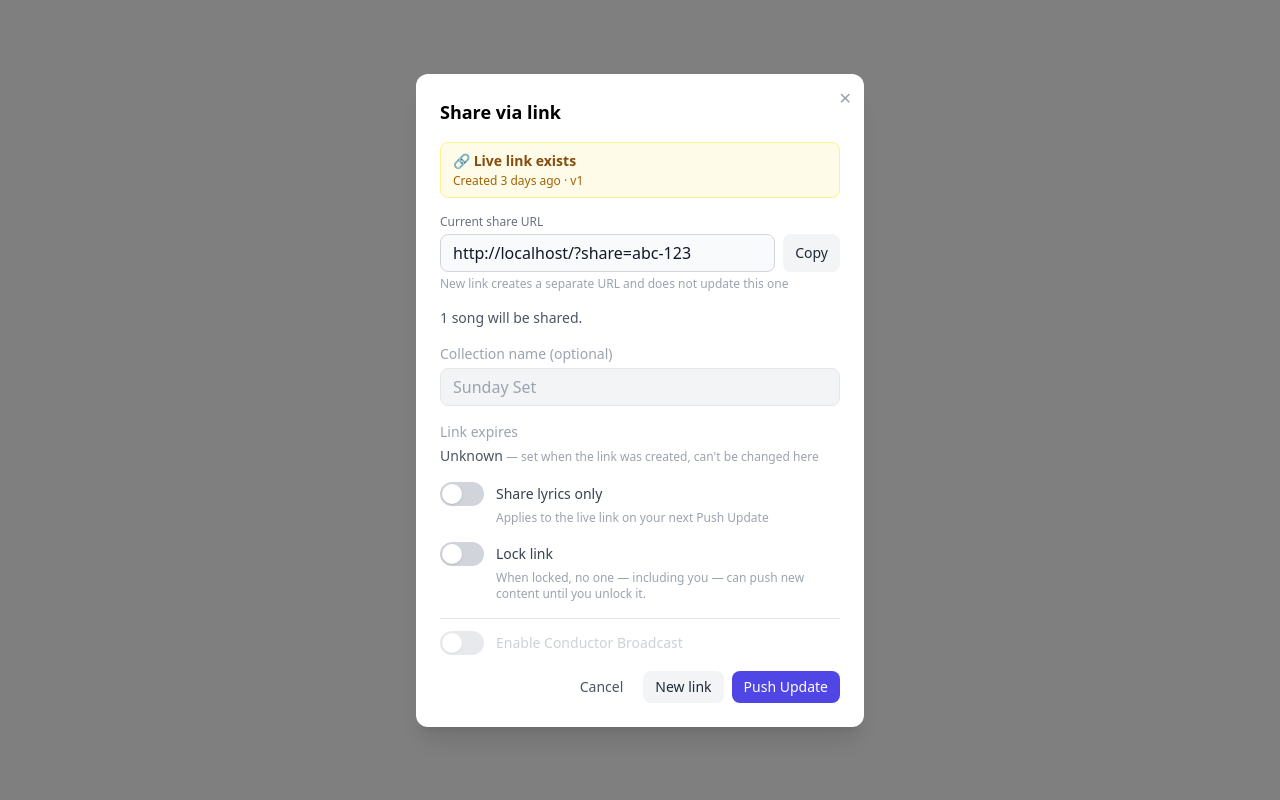
Test: ShareModal — update mode › reverts the toggle and shows an error if the silent re-lock fails
Click the switch labelled "Lock link" at (462,554), box x1=440 y1=542 x2=840 y2=566
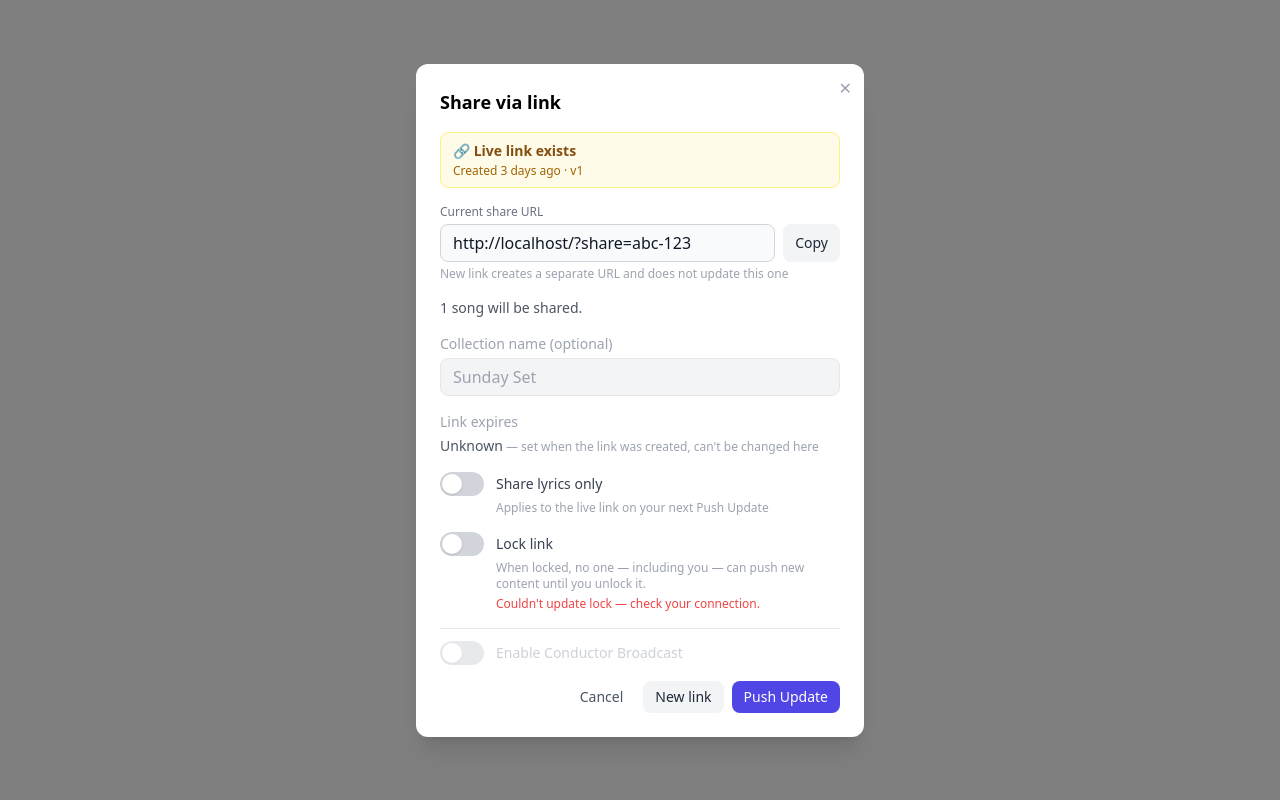
Check: the text "Couldn't update lock — check your connection." is shown, box x1=496 y1=594 x2=760 y2=612
